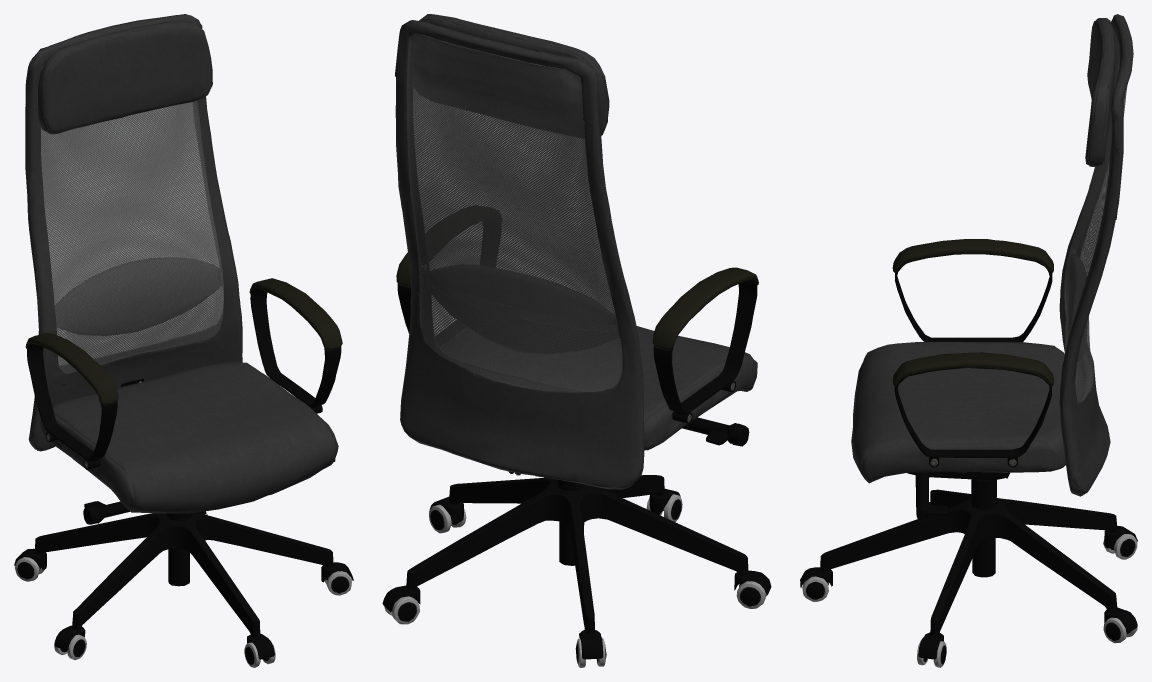
File: markus_krzeso_biurowe_30588800.glb
The picture shows the model from 3 angles, left to right: view 1: azimuth 30°, elevation 25°; view 2: azimuth 150°, elevation 25°; view 3: azimuth 270°, elevation 25°; orthographic projection. The views are drawn at different scales.
Visible parts, largest first — view 1: markus_krzeso_biurowe_30588800; view 2: markus_krzeso_biurowe_30588800; view 3: markus_krzeso_biurowe_30588800.
Part boxes in pixels (x1=…): markus_krzeso_biurowe_30588800: x1=14, y1=14, x2=353, y2=667; markus_krzeso_biurowe_30588800: x1=382, y1=14, x2=771, y2=667; markus_krzeso_biurowe_30588800: x1=800, y1=14, x2=1137, y2=667.
Size of the model in its own units: 0.6946 by 1.19 by 0.6613.
4 materials, 4 textured.
